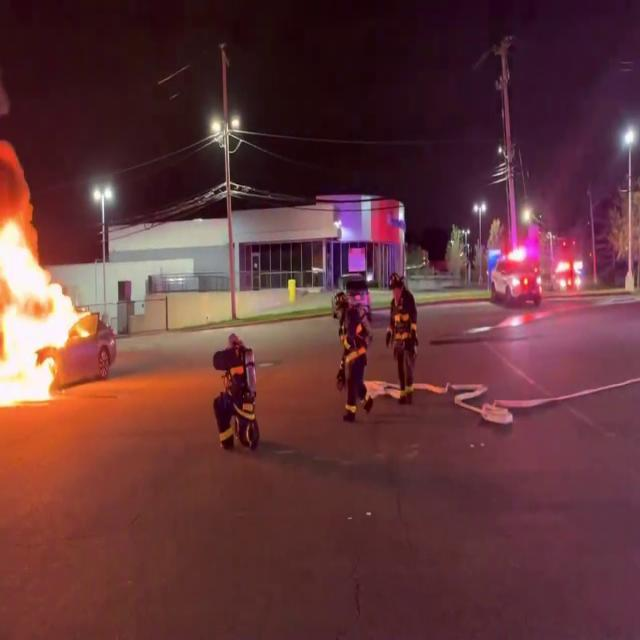Fire: (0, 204, 83, 408)
